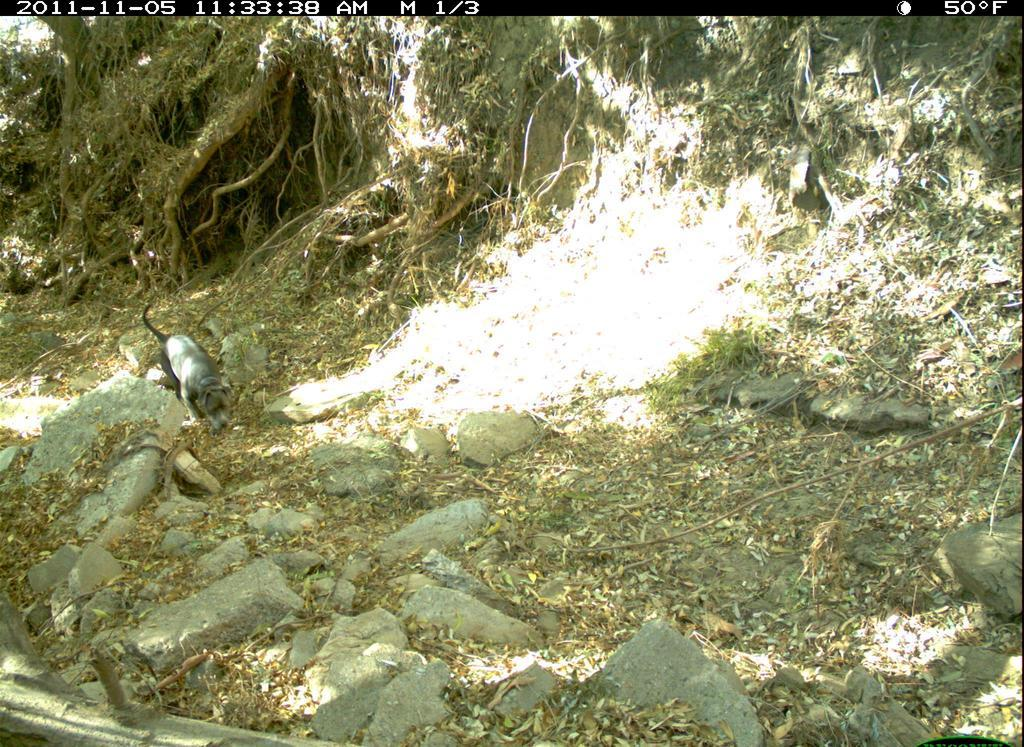dog: (139, 296, 241, 438)
